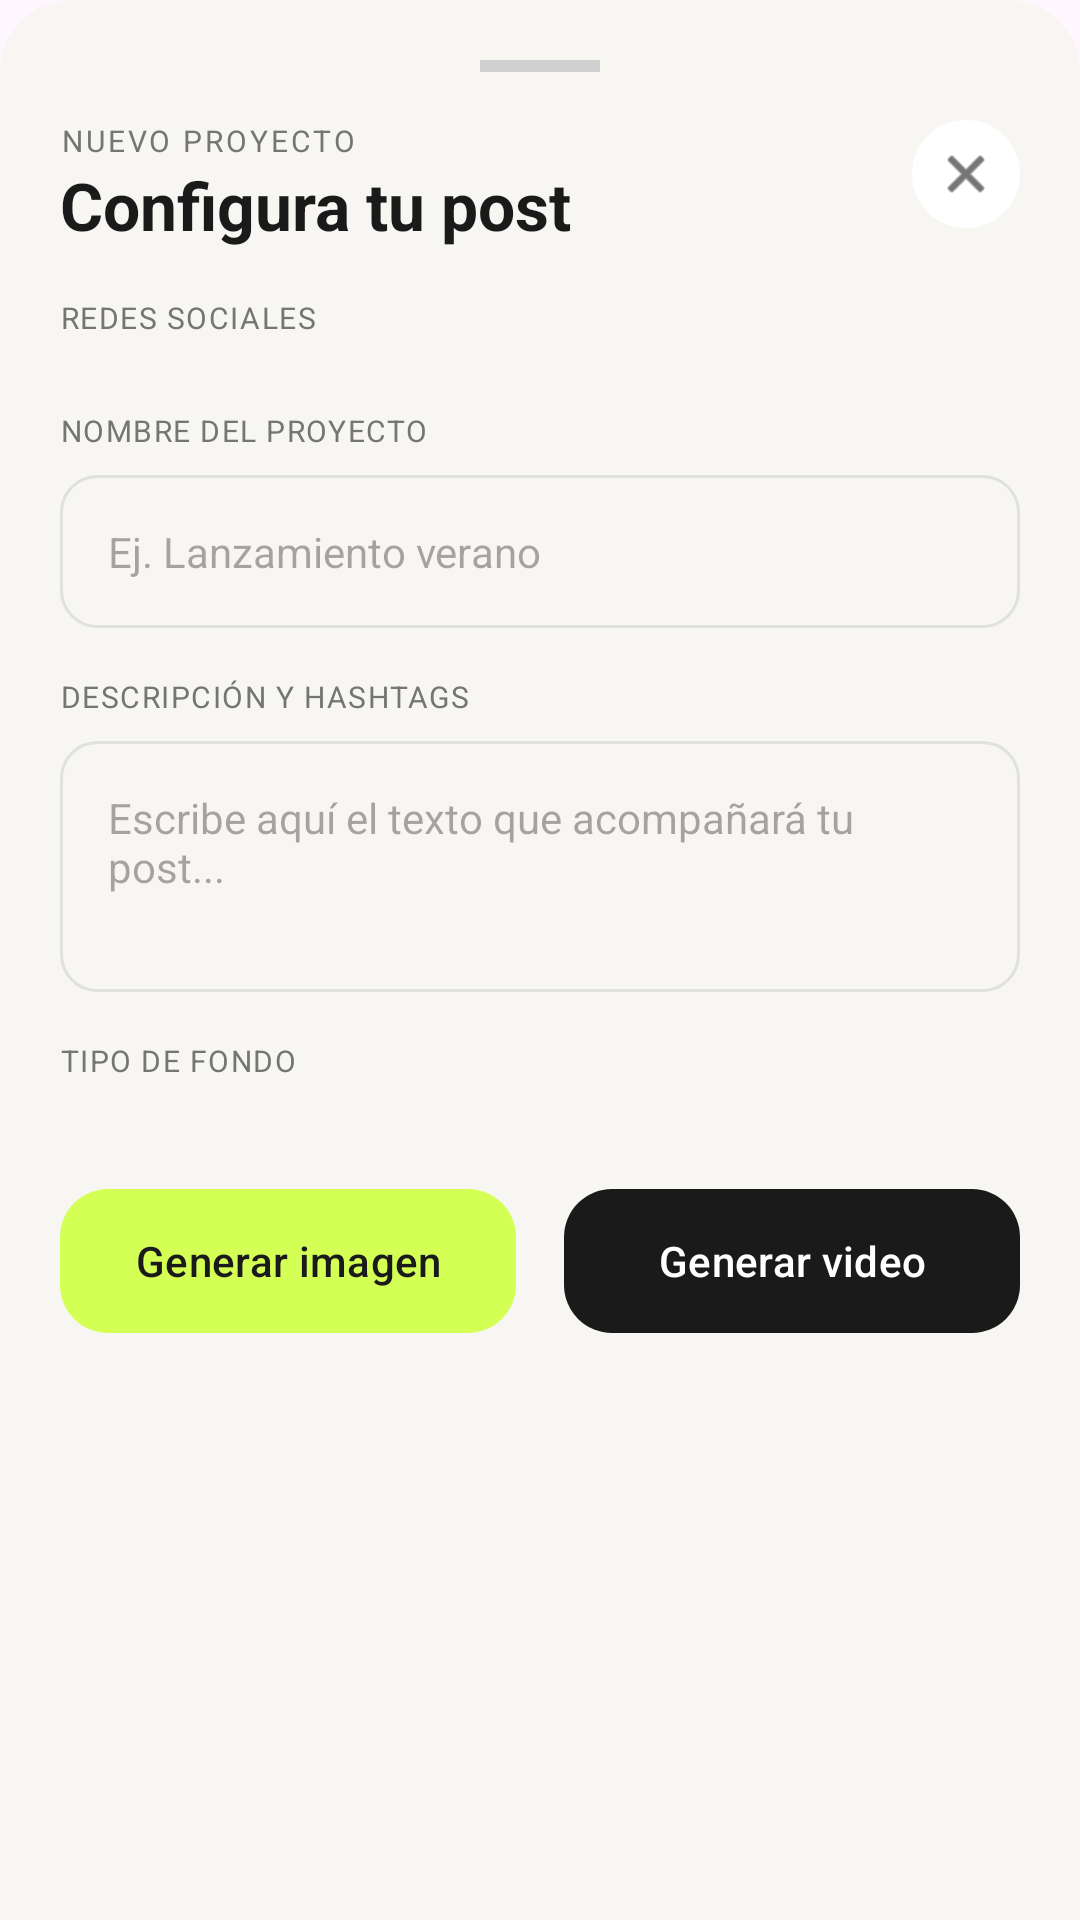

Icons on this 1080*1920 Android screen, each with the point to tap as (x=x, y=y):
close clear cancel: (x=966, y=174)
